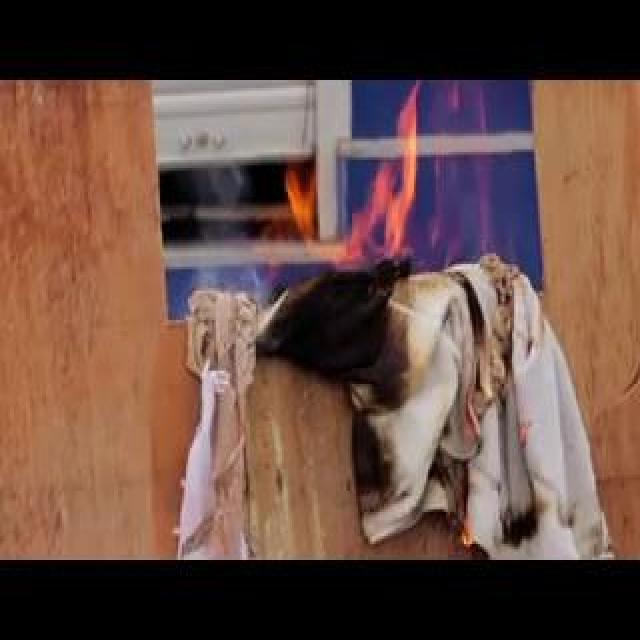Fire: (262, 190, 378, 216)
